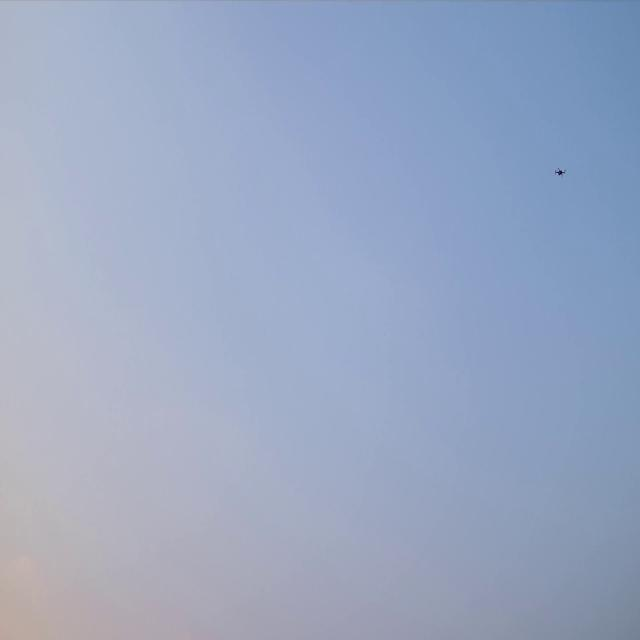UAV: (554, 168, 567, 178)
